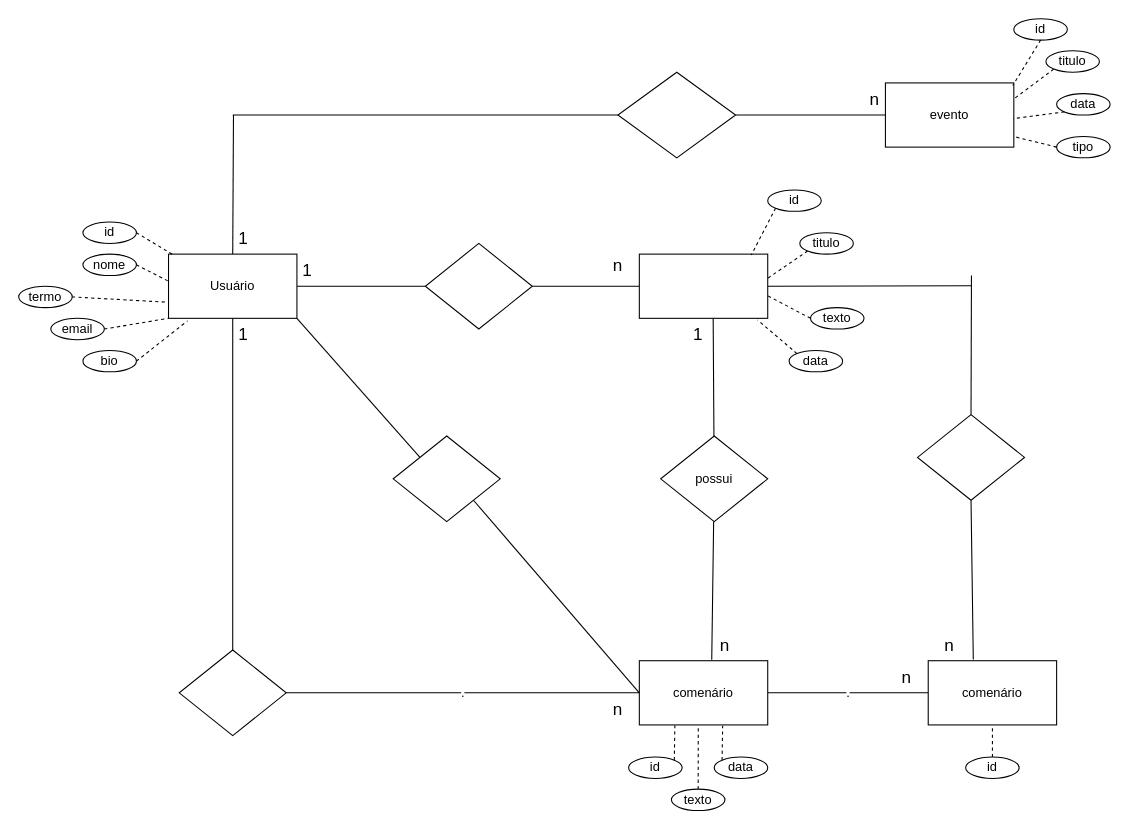
The diagram is 1129 pixels wide and 829 high, and some of its shapes have lost their labels. The box of each missing label's shape, as (x1, y1, x2, y2) in pixels:
cadastra: (617, 71, 736, 158)
cria: (424, 242, 532, 329)
curte: (178, 649, 286, 736)
escreve: (392, 435, 500, 522)
post: (638, 253, 768, 318)
recebe: (916, 414, 1025, 500)
